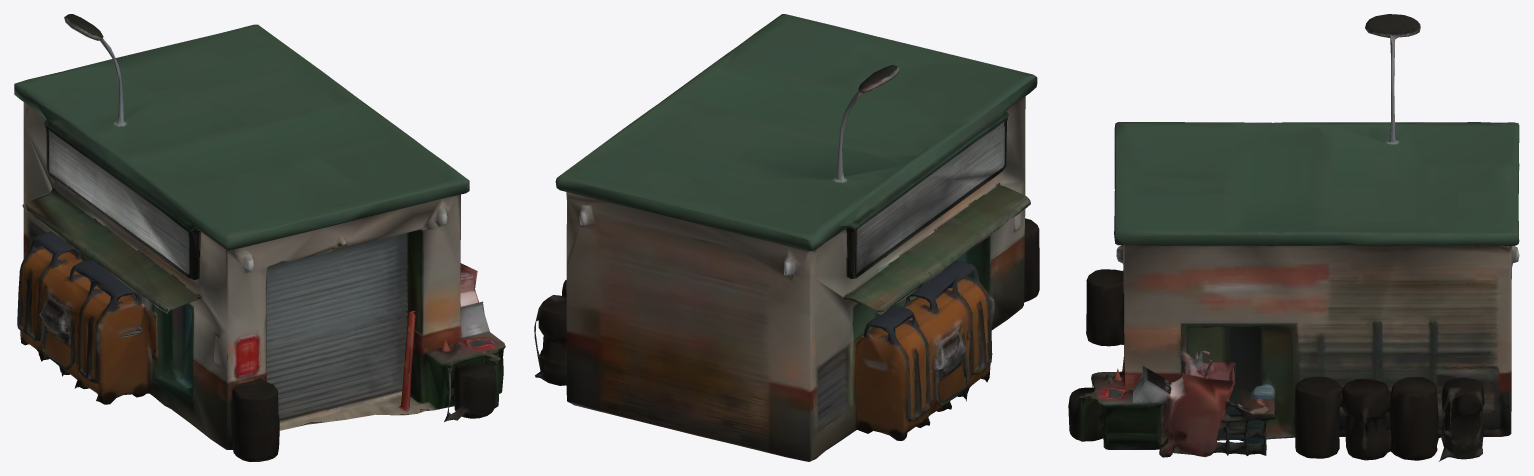
The model's file is garage.glb.
The picture shows the model from 3 angles, left to right: view 1: azimuth 30°, elevation 25°; view 2: azimuth 150°, elevation 25°; view 3: azimuth 270°, elevation 25°; orthographic projection. The views are drawn at different scales.
Size of the model in its own units: 0.8301 by 0.7645 by 0.9994.
Materials: 1 (1 with a texture image).
